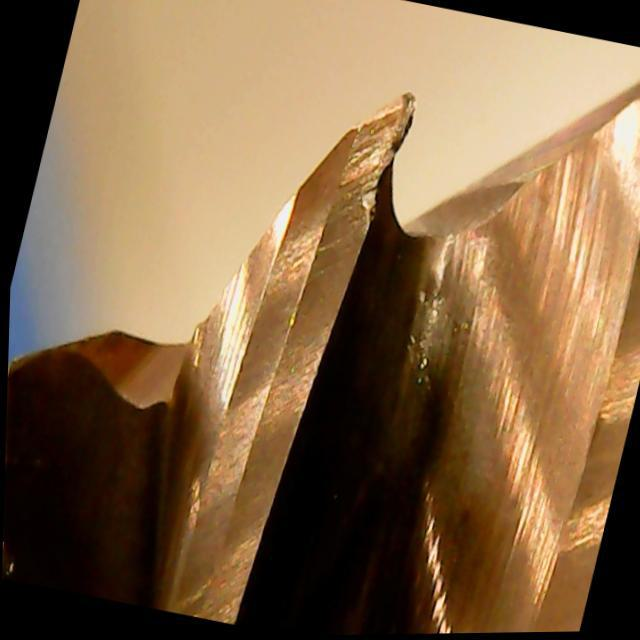Tool-wear-class-2: (236, 61, 431, 386)
